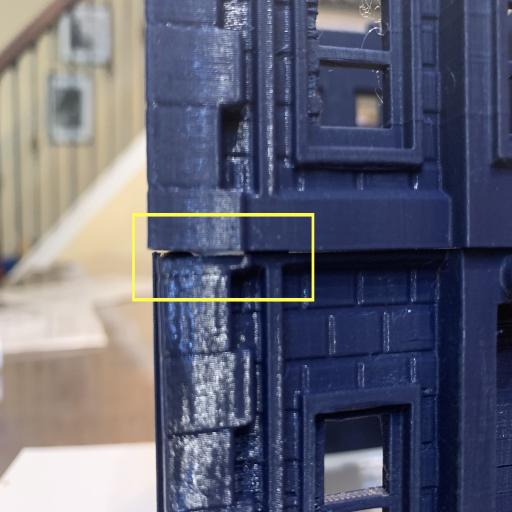cracks: (133, 216, 314, 298)
